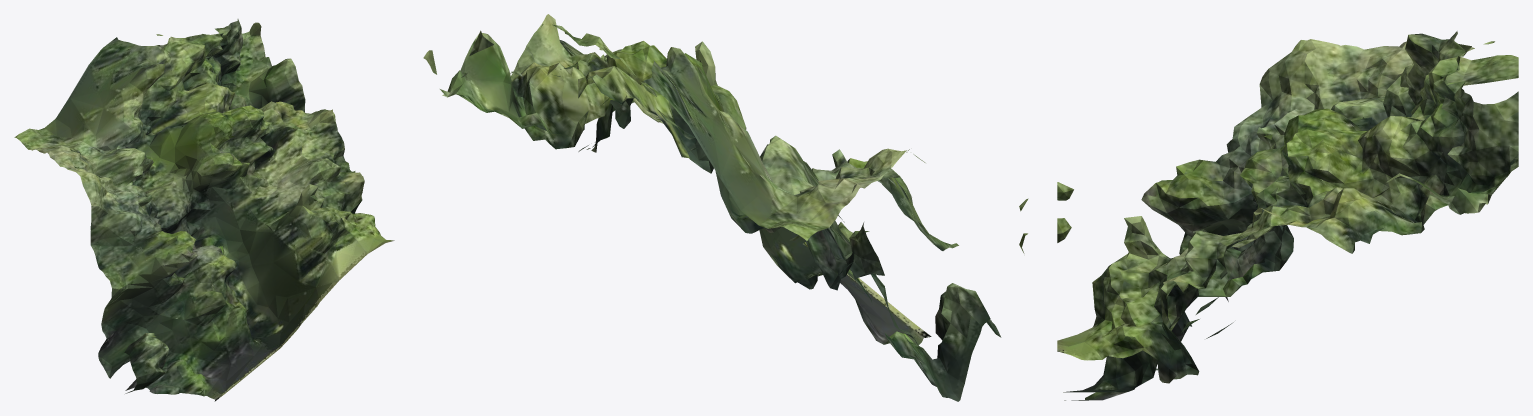
The picture shows the model from 3 angles, left to right: view 1: azimuth 30°, elevation 25°; view 2: azimuth 150°, elevation 25°; view 3: azimuth 270°, elevation 25°; orthographic projection. The views are drawn at different scales.
Size of the model in its own units: 52.22 by 52.22 by 52.22.
Materials: 5 (5 with a texture image).
